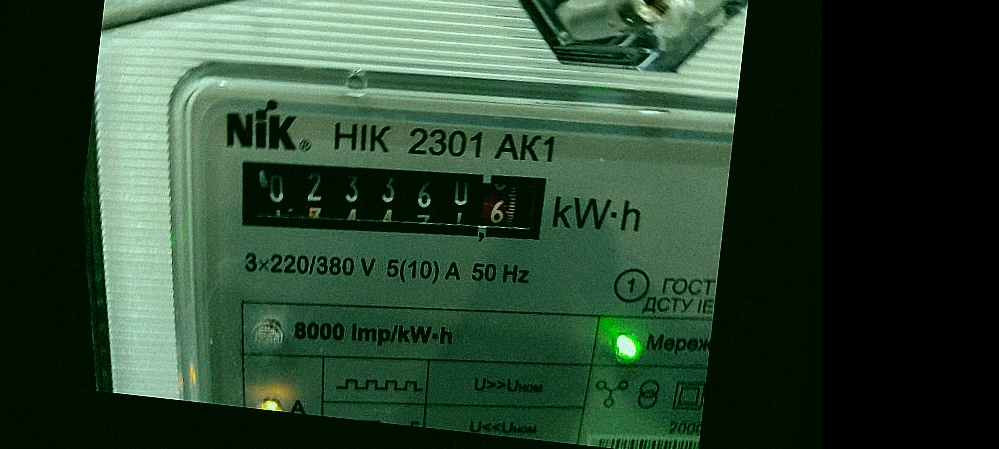0: (263, 169, 288, 205), (446, 175, 472, 208)
2: (302, 168, 326, 203)
3: (376, 169, 399, 204), (338, 171, 360, 204)
6: (484, 192, 509, 227), (411, 175, 435, 210)
screen: (218, 133, 564, 265)
